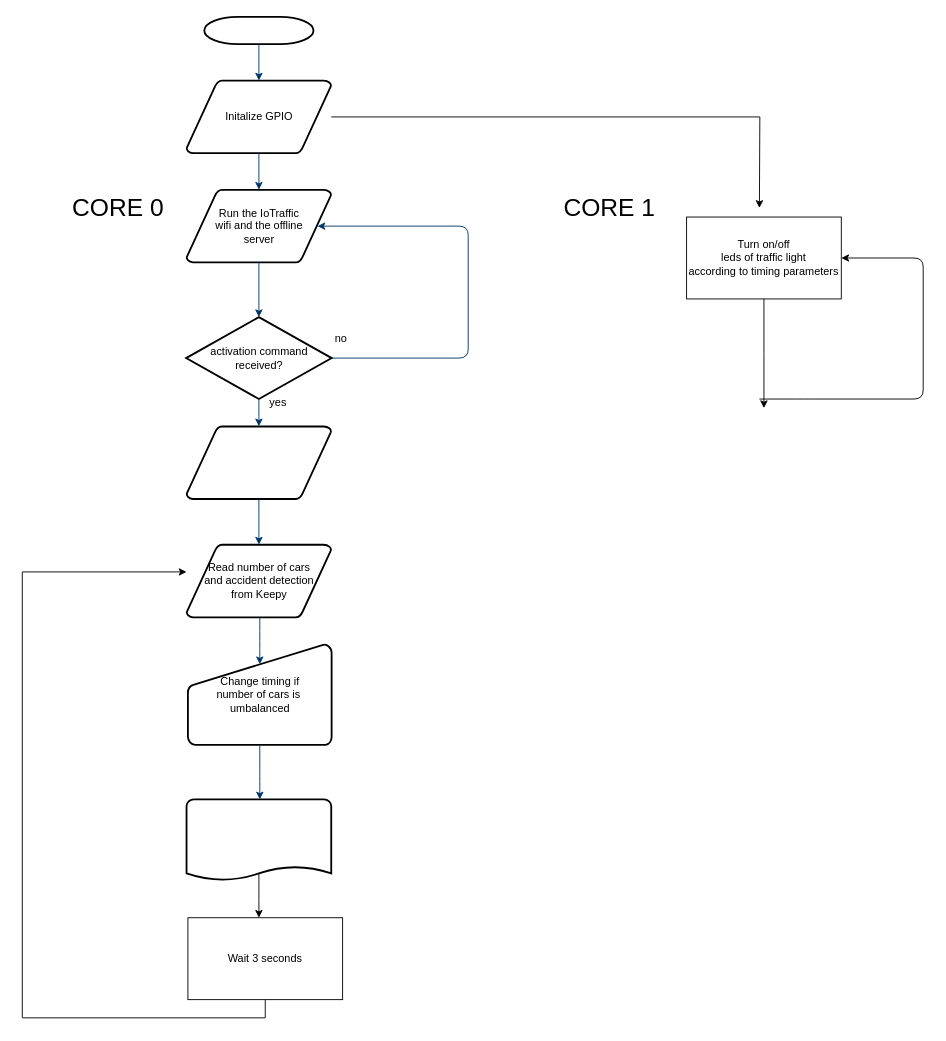
The diagram is 946 pixels wide and 1041 high, and some of its shapes have lost their labels. Each missing label, with the centre of its shape:
Activate relay if accident detected.: pixel 258 840
Connect to Wifi available: pixel 258 462
start: pixel 258 30
